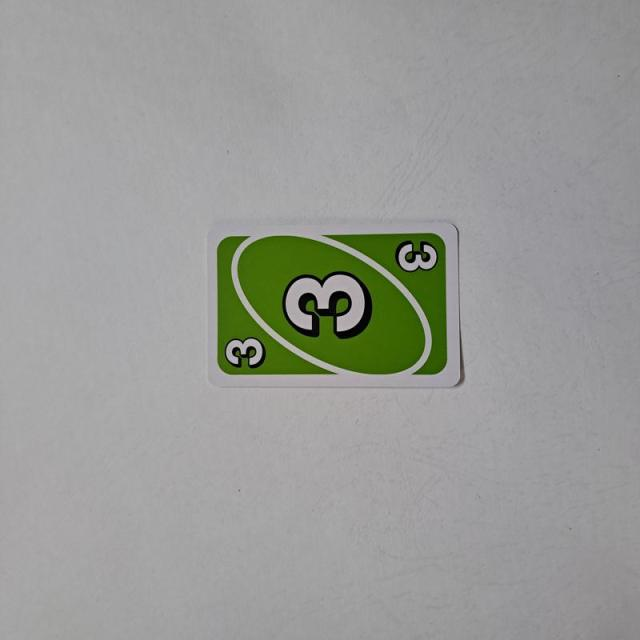Green_Card: (212, 227, 451, 380)
Number_3: (395, 236, 441, 280)
